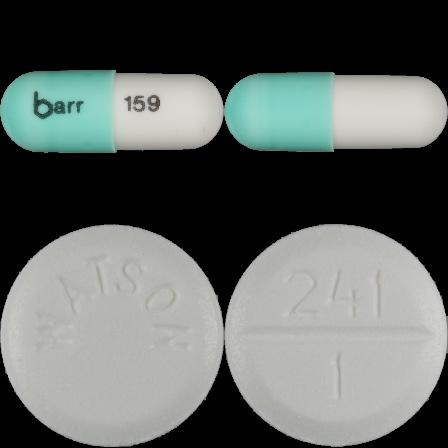43063-046: (0, 0, 224, 224)
